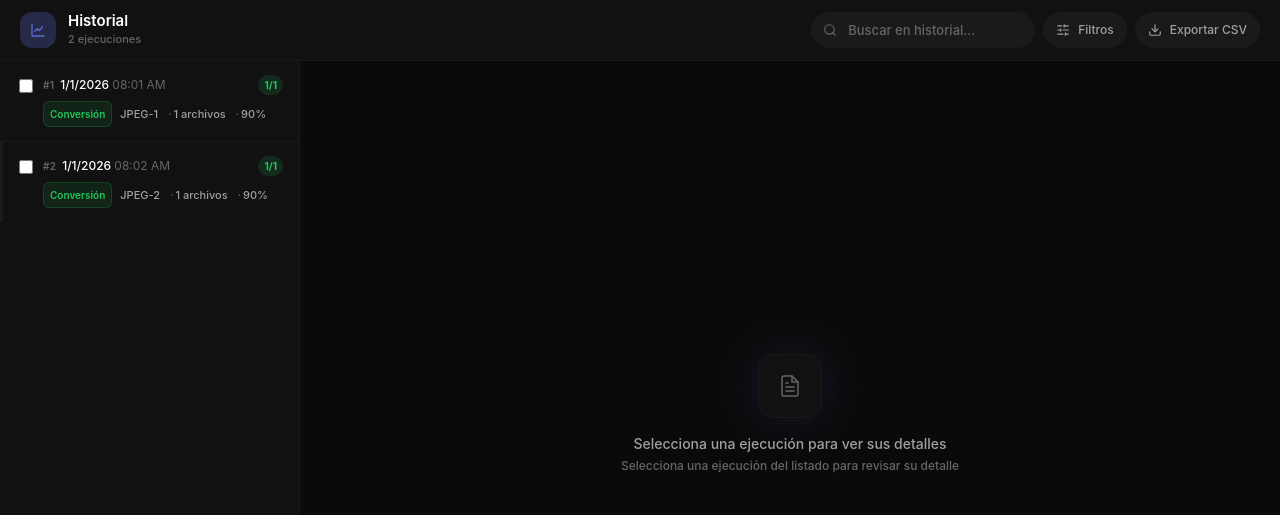
Test case: HistoryView › shows a bulk bar with delete button when rows are selected
Expected: the text "JPEG-1" is shown, left=120, top=104, right=158, bottom=124
Click the checkbox named "Seleccionar ejecución #1": (26, 86) left=19, top=79, right=33, bottom=93
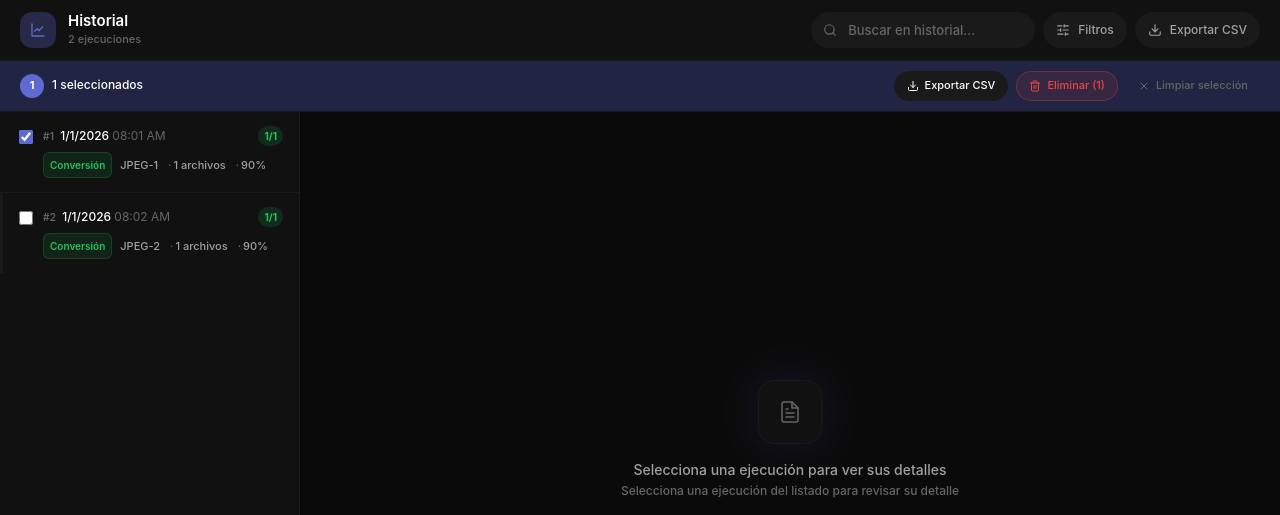
Result: the element with test id "history-bulk-bar" is shown at left=0, top=61, right=1279, bottom=112
